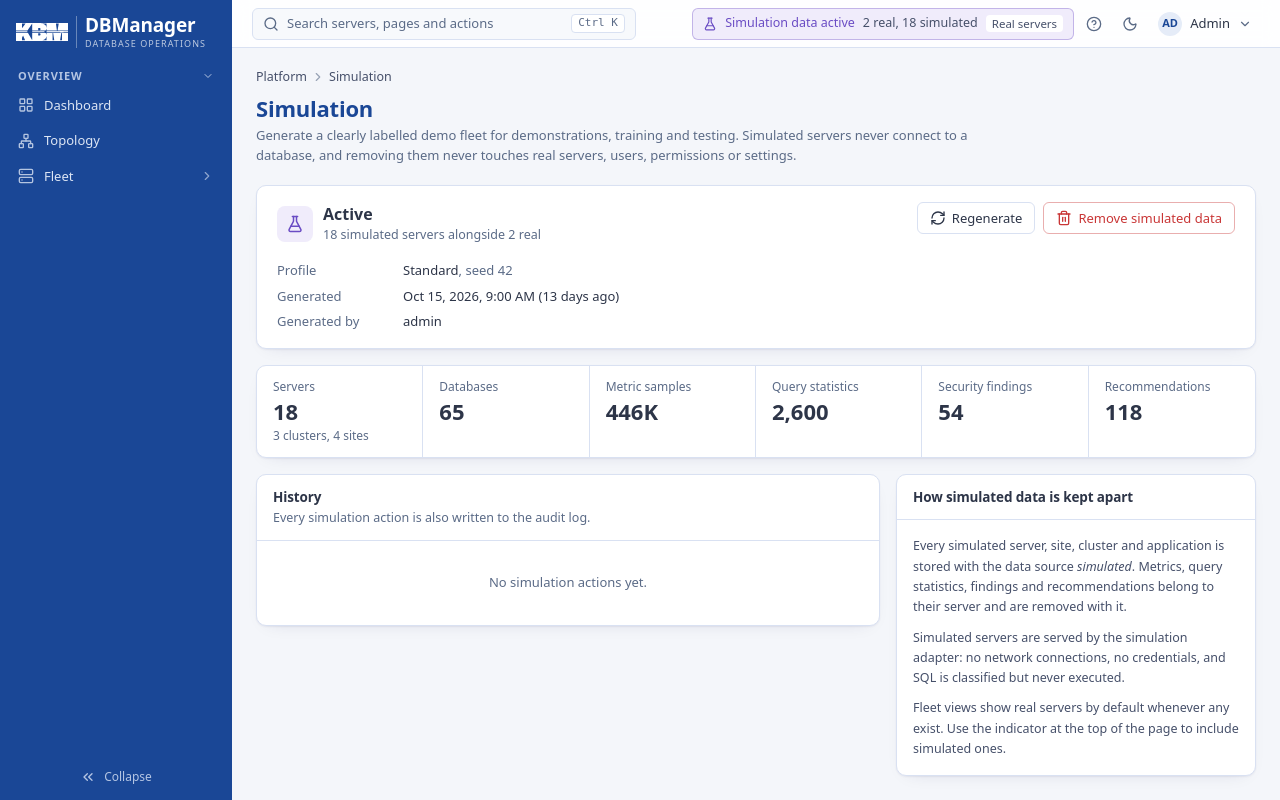
Test: simulation removal preview errors › shows an error with retry instead of an endless skeleton when the cleanup preview fails
Click the button "Remove simulated data" at x=1139, y=218, box [1043, 202, 1235, 234]
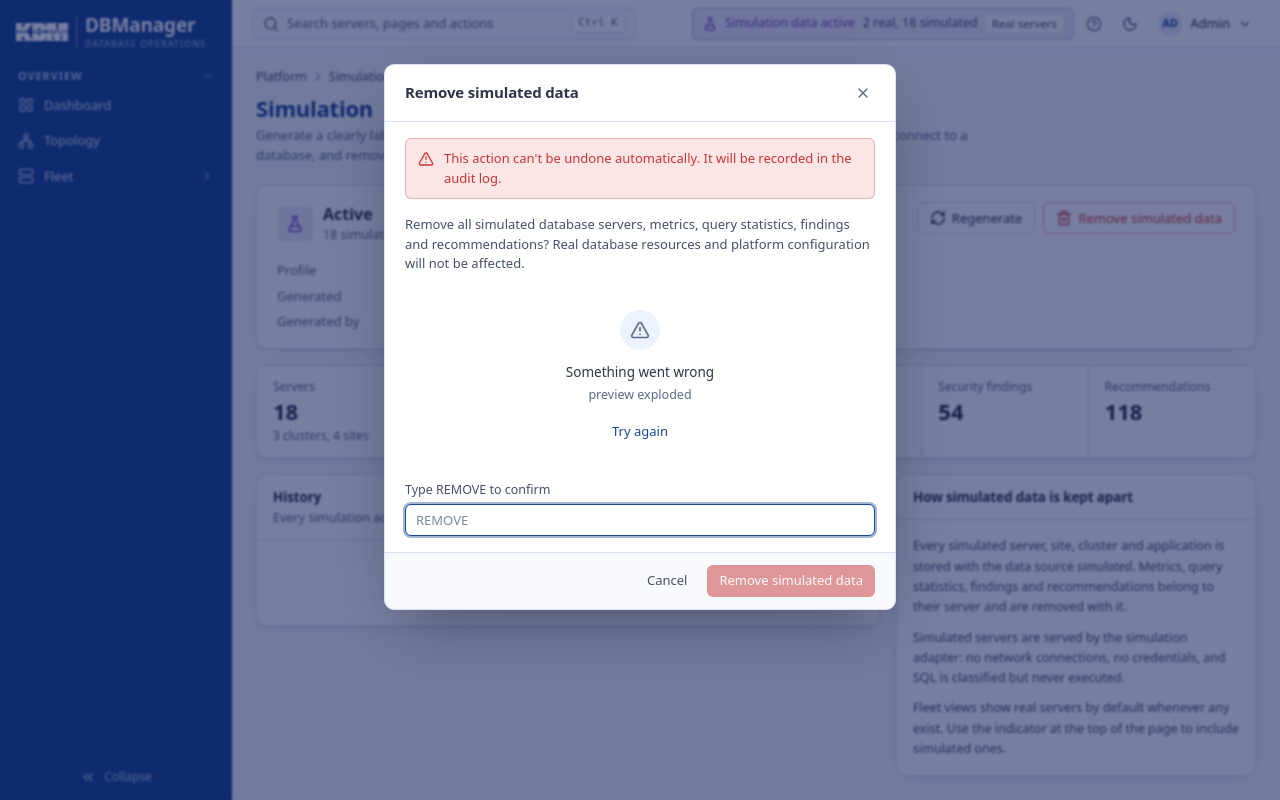
Expected: the text "preview exploded" is shown, [588, 386, 692, 403]
Click the button "Try again" at x=640, y=431, box [612, 422, 668, 441]
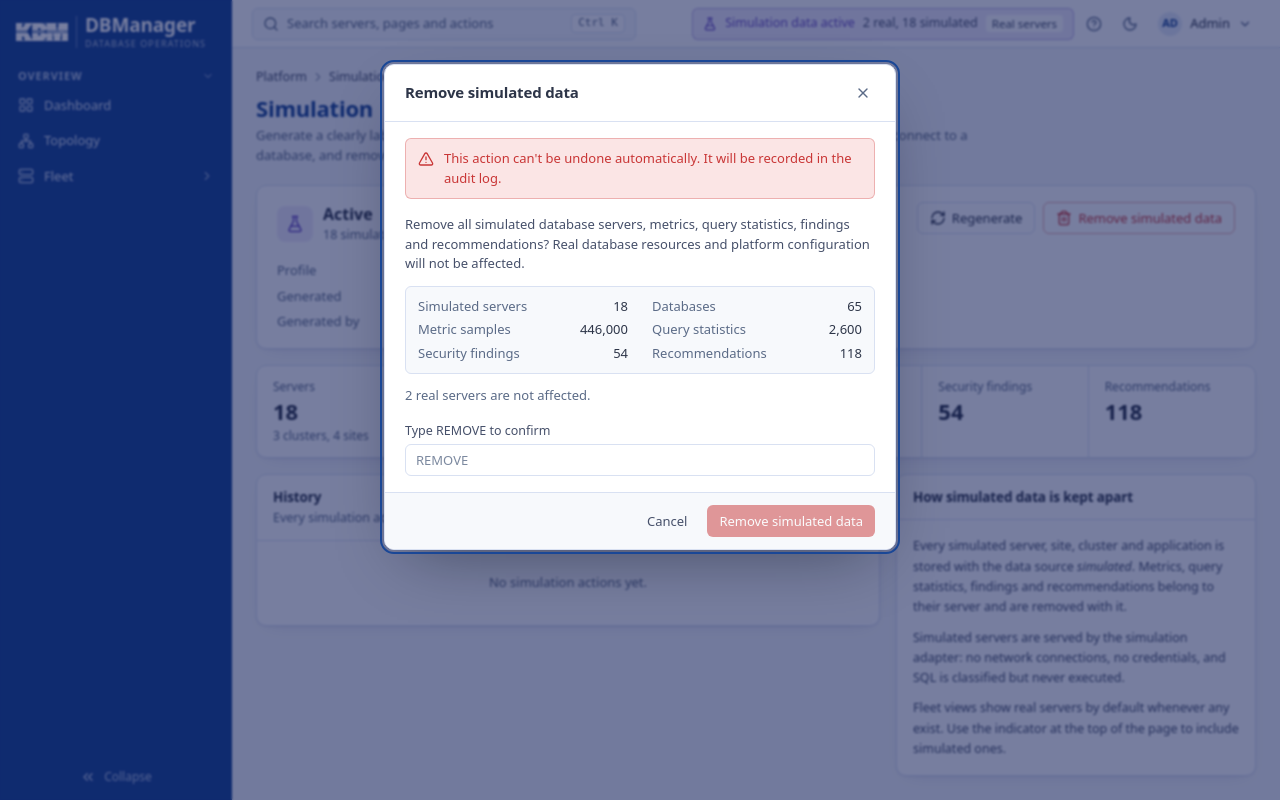
Expected: the text "446,000" is shown, [580, 320, 628, 340]
